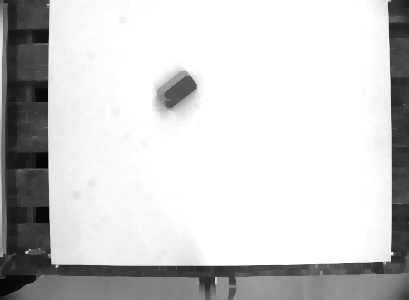b3: (151, 65, 199, 110)
